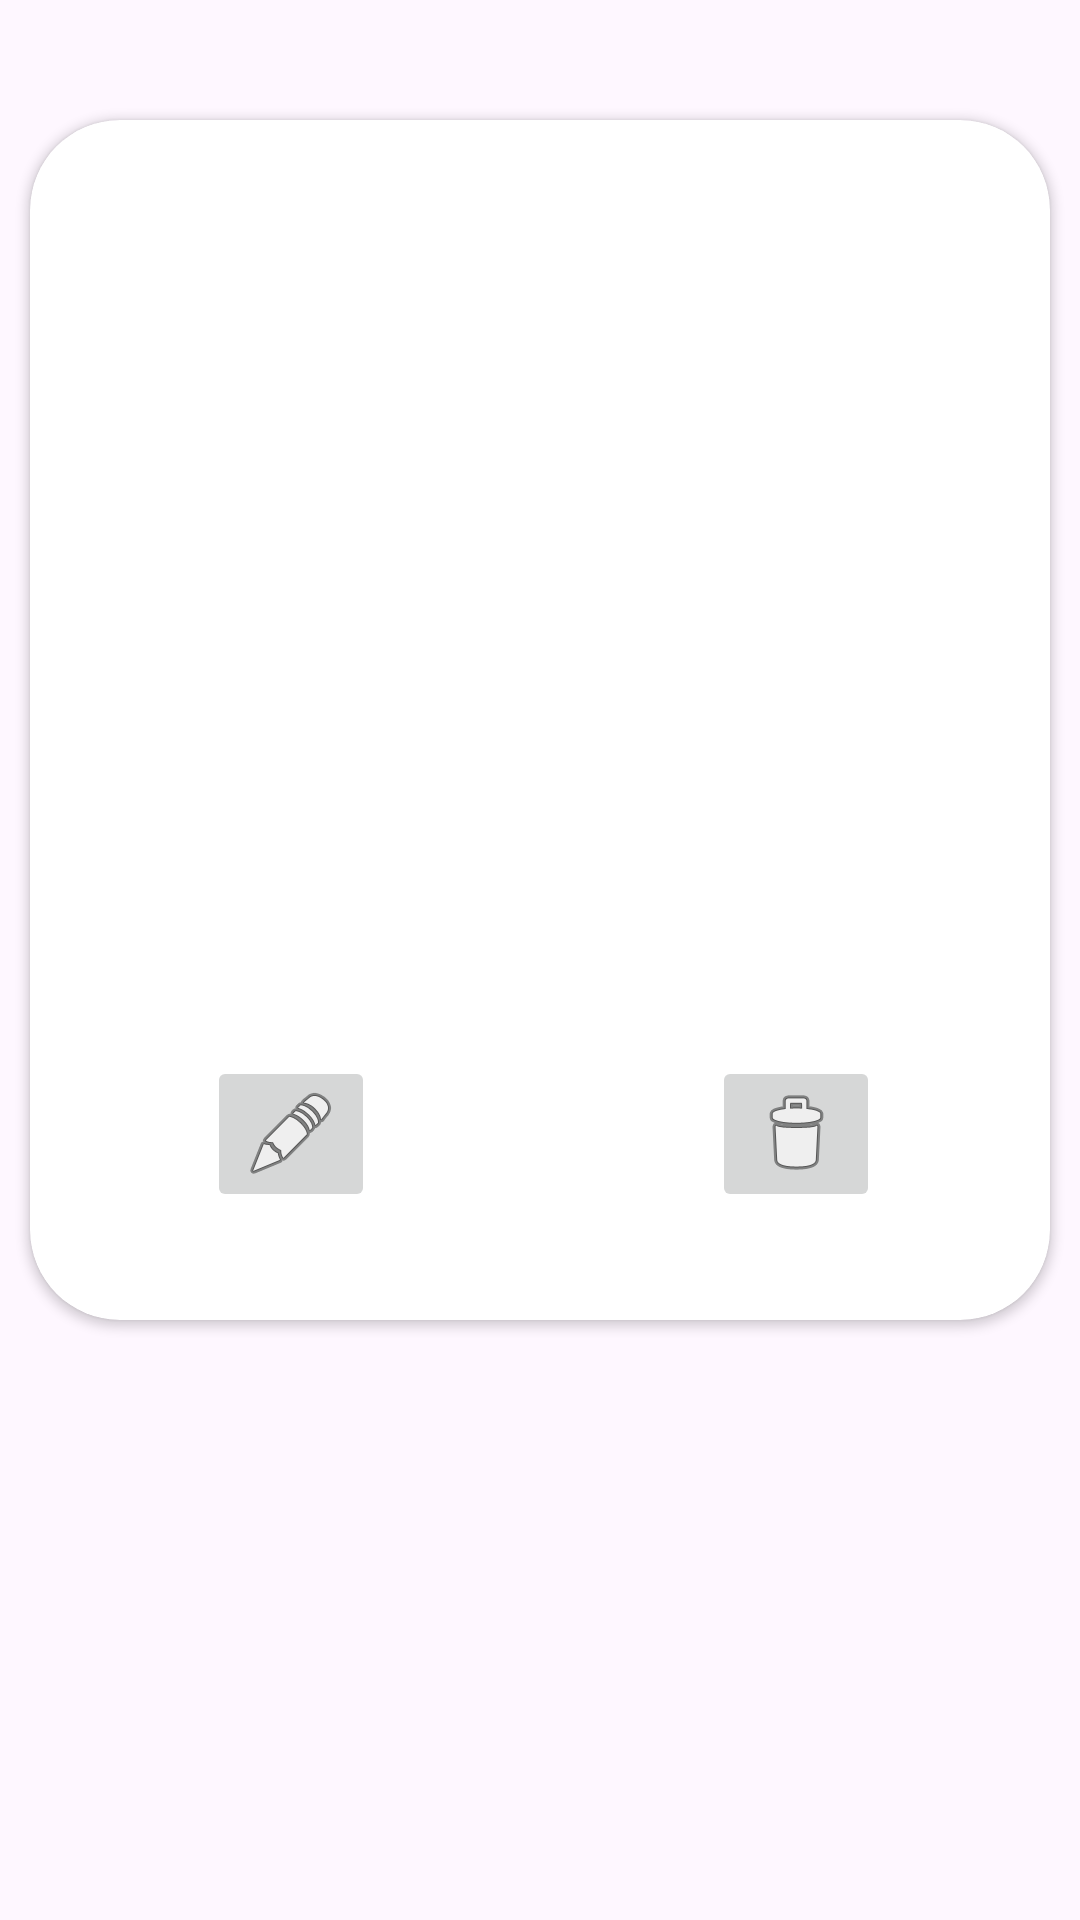

Screen size 1080x1920. Icon name, then its center in pixels as (x,y):
delete: (796,1134)
edit: (291,1134)
